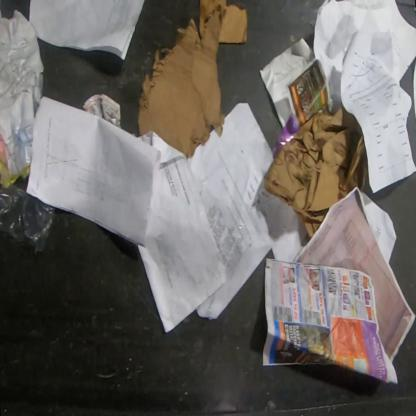cardboard: (138, 2, 226, 159), (199, 0, 248, 44)
soft_plastic: (0, 169, 58, 255), (271, 114, 302, 160)
